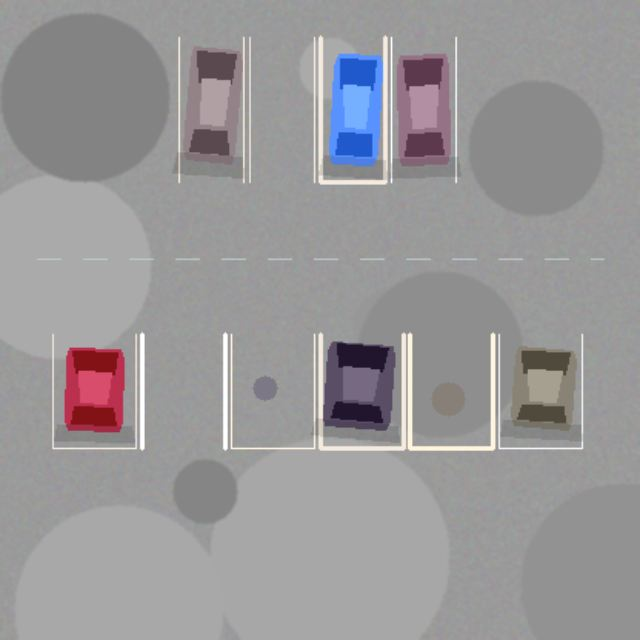space-empty: (142, 334, 225, 448), (231, 334, 314, 448), (409, 334, 492, 448), (249, 37, 314, 182)
space-occupied: (498, 334, 582, 448), (52, 334, 135, 448), (320, 334, 403, 448), (178, 37, 243, 182), (320, 37, 385, 182), (391, 37, 455, 182)
